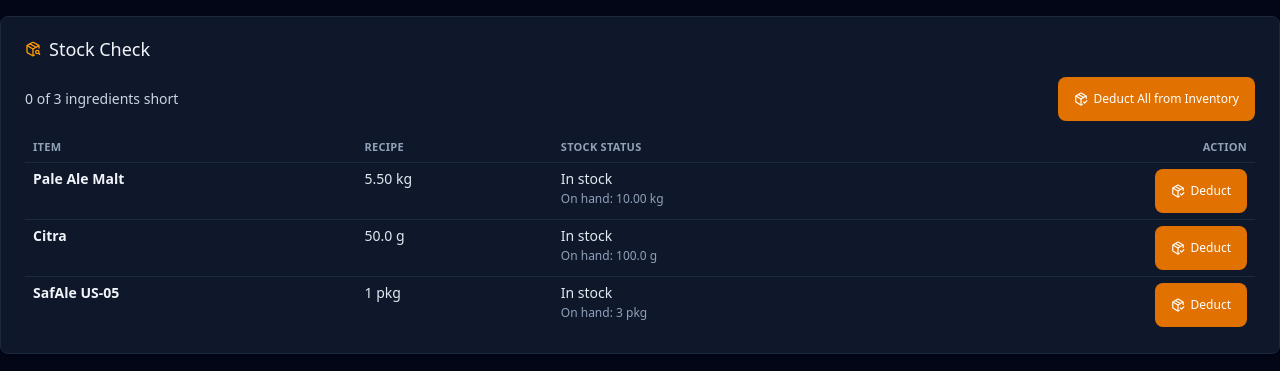
Test: AC-2: bulk "Deduct All from Inventory" › the bulk button disables while in flight and re-enables after; disabled entirely once fully checked
Expected: the text "0 of 3 ingredients short" is shown, [25,89,178,109]
Click the button with test id "stock-check-deduct-all-btn" at x=1156, y=99, box [1058,77,1255,121]
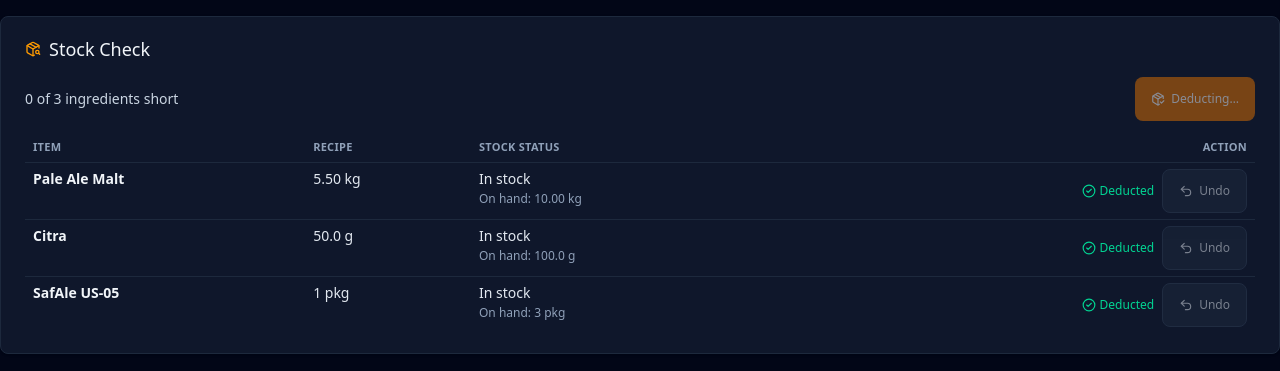
Expected: the button with test id "stock-check-deduct-all-btn" is disabled, [1135,77,1255,121]
